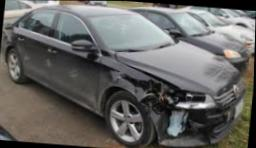Bonnet: (115, 39, 241, 95)
Bumper: (153, 104, 241, 148)
Fender: (95, 58, 178, 117), (0, 25, 18, 62)
Light: (151, 81, 220, 109)
